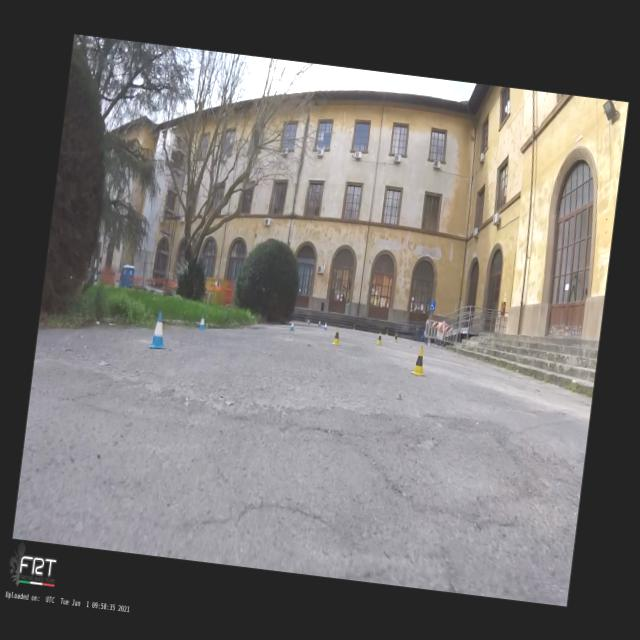blue_cone: (147, 310, 170, 350), (198, 314, 208, 330), (288, 319, 296, 331), (322, 320, 328, 330), (317, 319, 321, 327), (306, 318, 309, 325)
yellow_cone: (409, 345, 429, 377), (330, 326, 342, 346), (374, 331, 384, 346), (392, 332, 398, 342), (385, 329, 388, 335), (352, 324, 355, 330)
